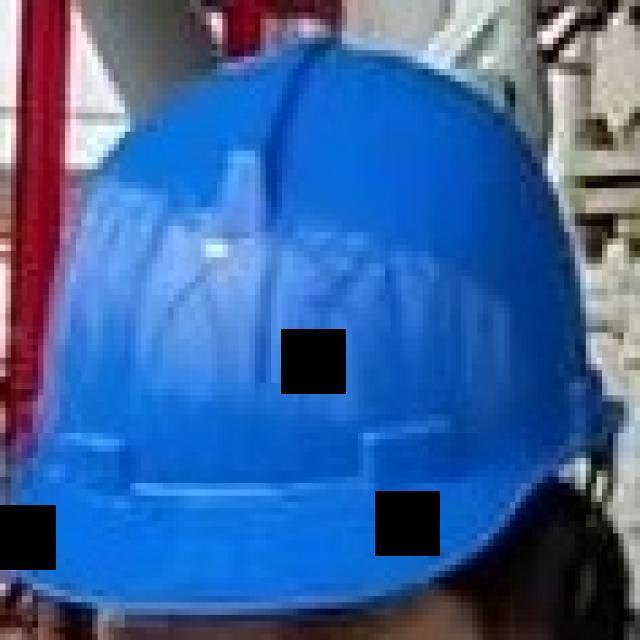blue helmet: (1, 24, 626, 617)
